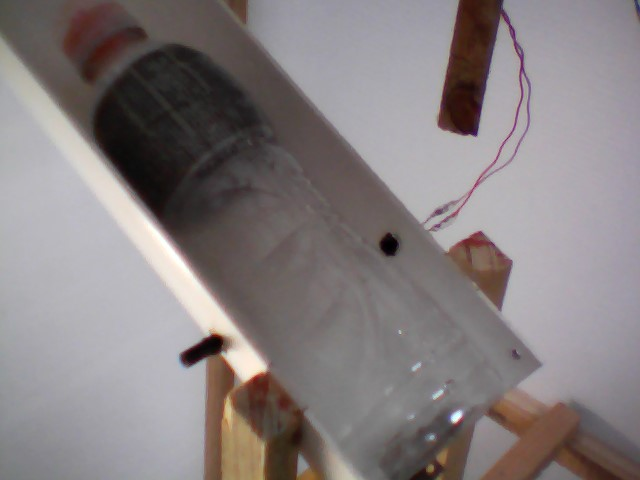plastico: (51, 5, 511, 480)
